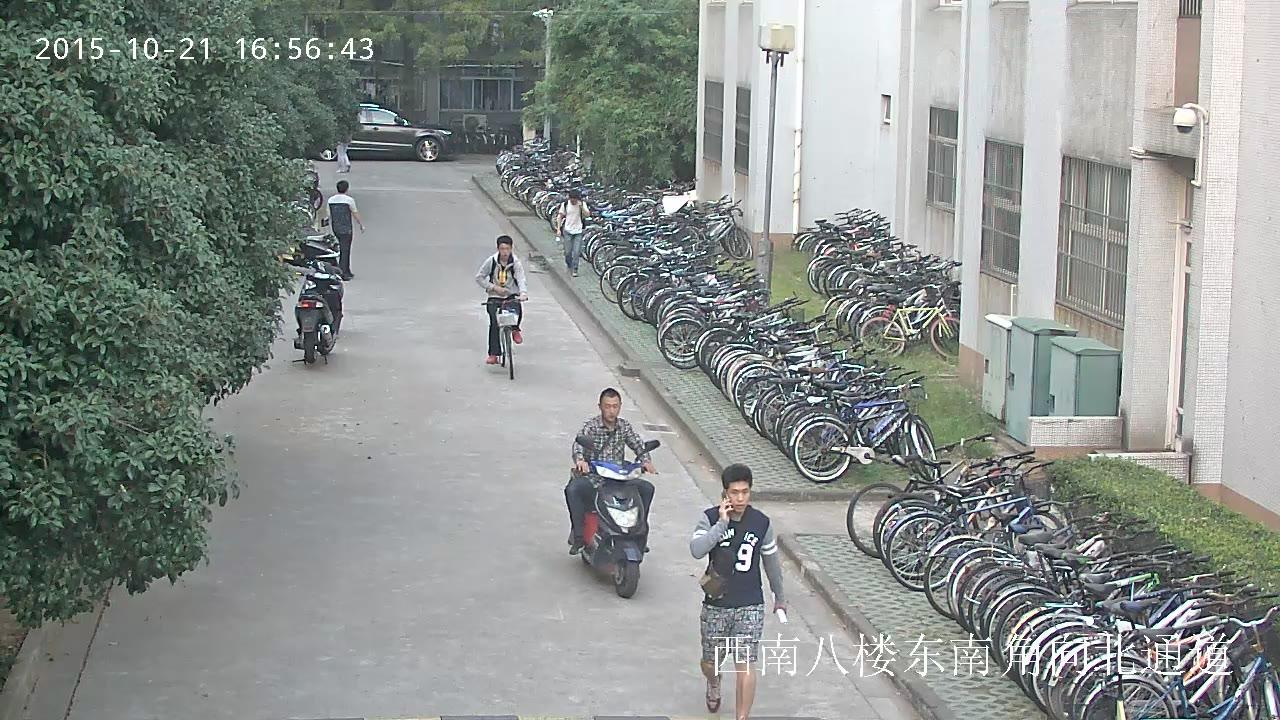person: (689, 464, 786, 720), (566, 388, 660, 598), (566, 388, 656, 554), (476, 235, 527, 380), (476, 236, 527, 364), (324, 180, 363, 280), (557, 189, 588, 275), (337, 136, 352, 173)
